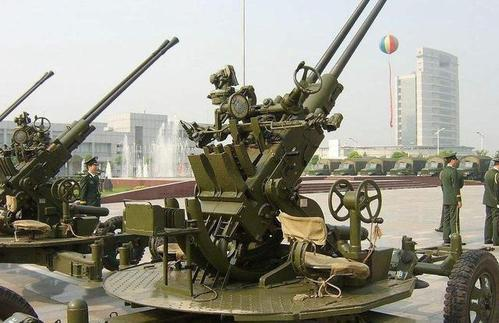MIL_SPG: (104, 0, 499, 321), (0, 38, 177, 279)
